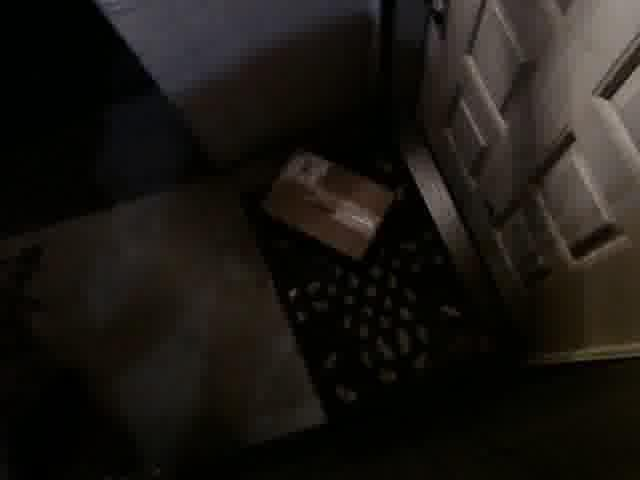box: (266, 140, 392, 263)
